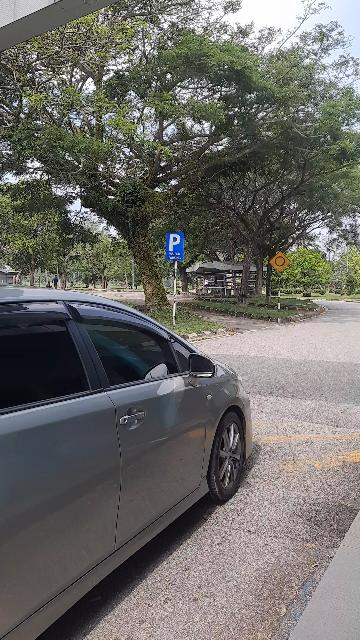car: (1, 290, 257, 640)
